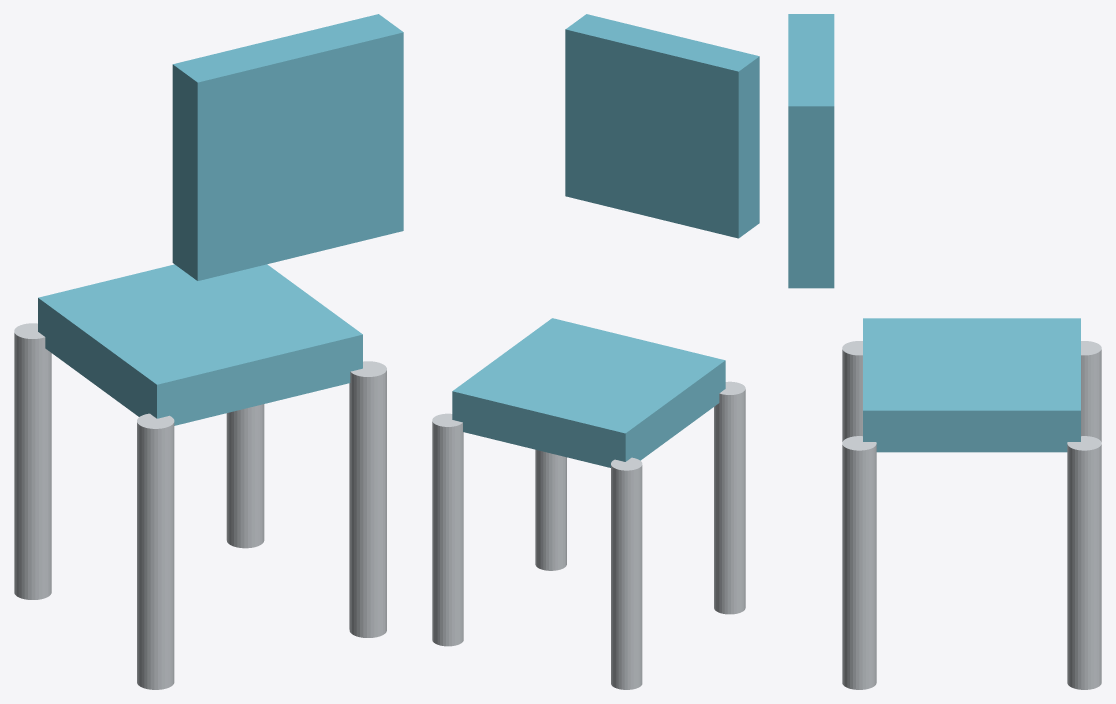
Rendered from chair.glb.
The picture shows the model from 3 angles, left to right: view 1: azimuth 30°, elevation 25°; view 2: azimuth 150°, elevation 25°; view 3: azimuth 270°, elevation 25°; orthographic projection. The views are drawn at different scales.
Parts seen in each view (by area): view 1: Chair; view 2: Chair; view 3: Chair.
Boxes of the visible parts, x1=… form: Chair: x1=14, y1=14, x2=403, y2=689; Chair: x1=432, y1=14, x2=759, y2=689; Chair: x1=788, y1=14, x2=1101, y2=689.
Size of the model in its own units: 0.452 by 1.11 by 0.546.
